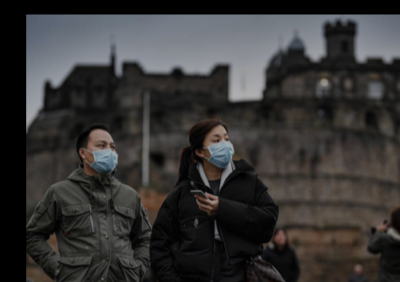with_mask: (86, 137, 119, 175), (204, 131, 235, 168)
without_mask: (273, 227, 287, 245)
